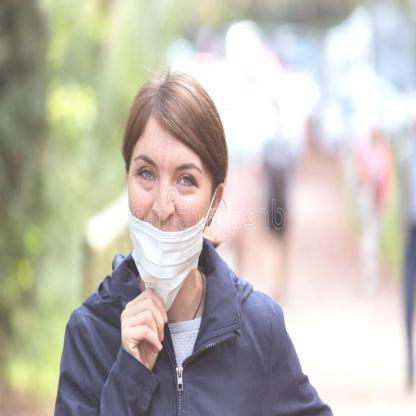mask_weared_incorrect: (124, 113, 231, 318)
